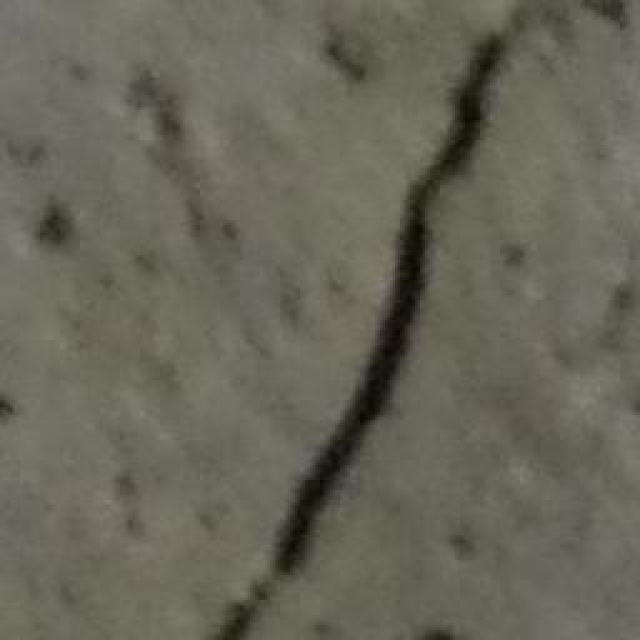Diagonal: (207, 0, 544, 640)
